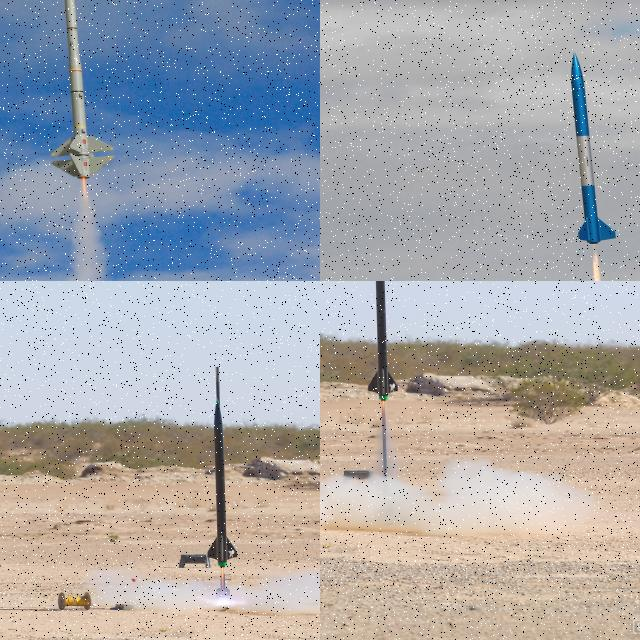Rocket: (47, 0, 115, 179), (570, 52, 618, 245), (206, 396, 241, 566), (365, 281, 398, 401)
